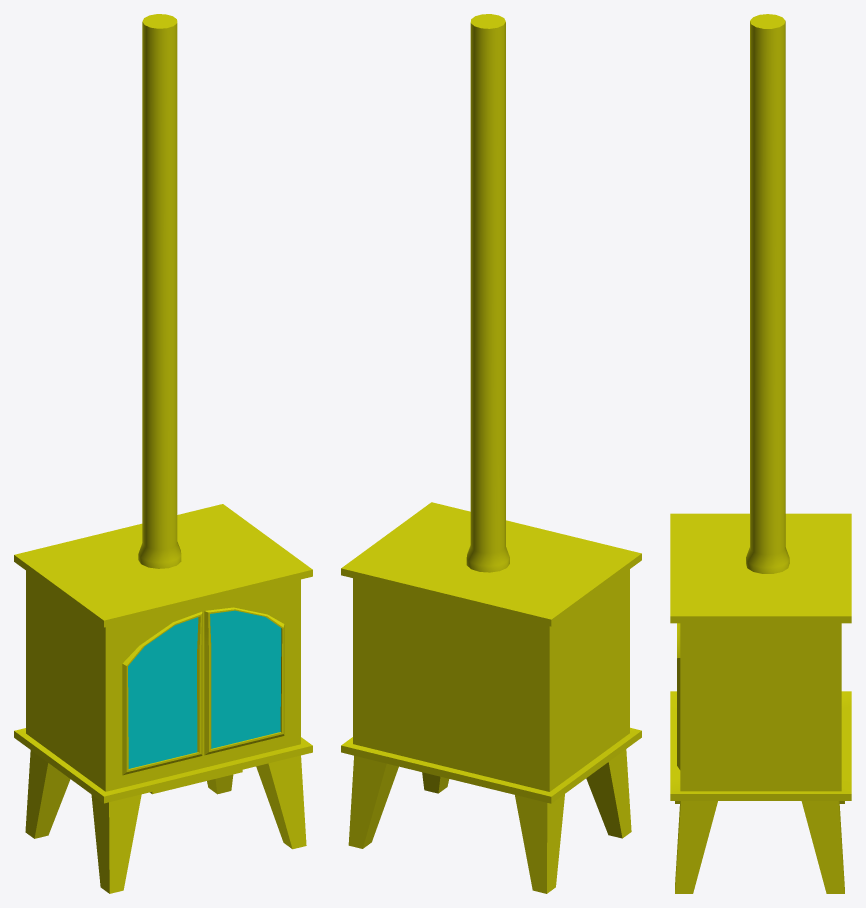
File: kamin.fbx
3 renders of one model, left to right at view 1: azimuth 30°, elevation 25°; view 2: azimuth 150°, elevation 25°; view 3: azimuth 270°, elevation 25°, orthographic.
Parts seen in each view (by area): view 1: kamin; view 2: kamin; view 3: kamin.
Boxes of the visible parts, x1=… form: kamin: x1=14, y1=14, x2=312, y2=893; kamin: x1=341, y1=14, x2=641, y2=893; kamin: x1=670, y1=14, x2=851, y2=893.
Size of the model in its own units: 5.92 by 22.08 by 4.41.
